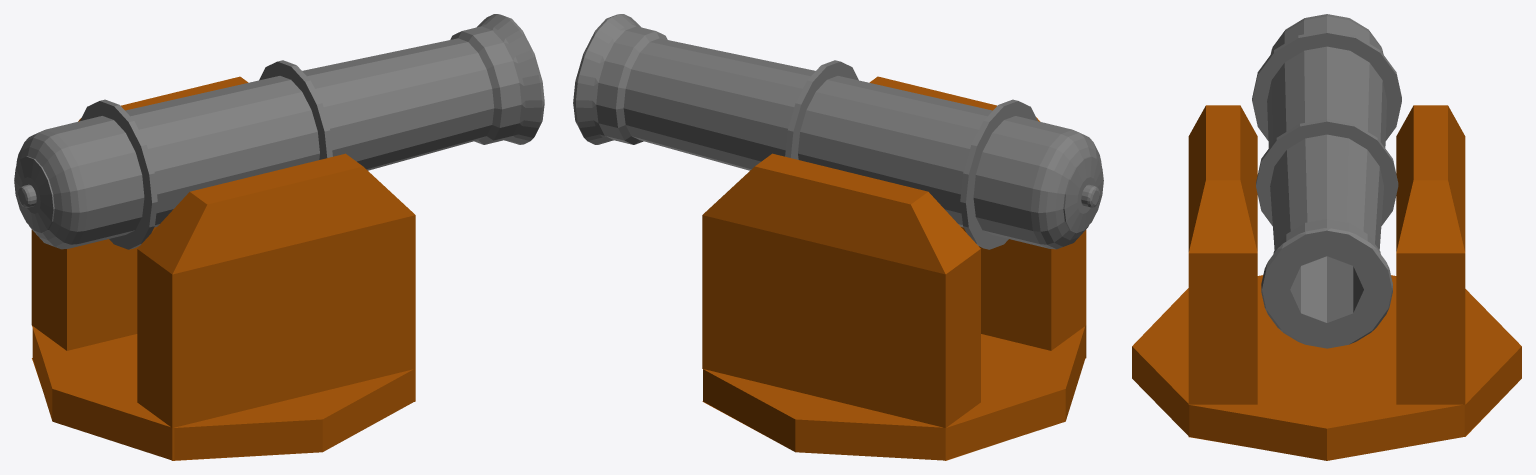
The model's file is cannon.glb.
The picture shows the model from 3 angles, left to right: view 1: azimuth 30°, elevation 25°; view 2: azimuth 150°, elevation 25°; view 3: azimuth 270°, elevation 25°; orthographic projection.
Parts seen in each view (by area): view 1: Base, Cannon; view 2: Base, Cannon; view 3: Base, Cannon.
Part boxes in pixels (<box>): Base: <box>31,76,415,460</box>; Cannon: <box>14,14,544,249</box>; Base: <box>702,76,1086,460</box>; Cannon: <box>573,14,1103,249</box>; Base: <box>1132,105,1521,460</box>; Cannon: <box>1252,14,1401,348</box>.
Bounding box in the file's own units: 2.57 × 1.51 × 1.8.
